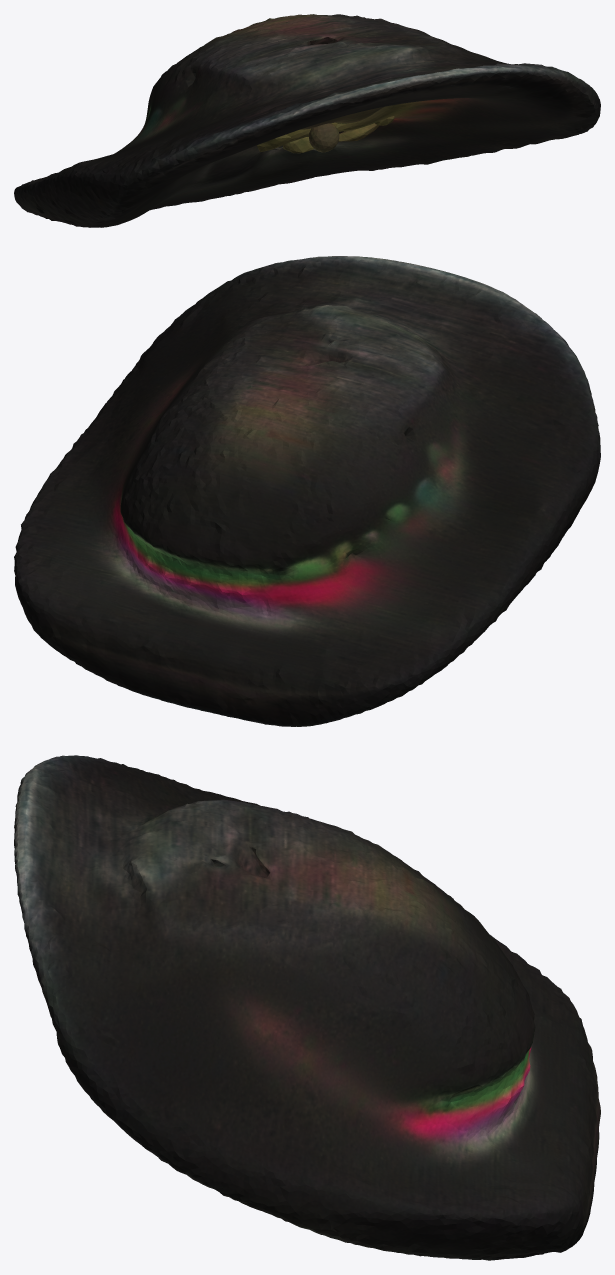
File: IMG_SEG_30.glb
3 renders of one model, top to bottom at view 1: azimuth 30°, elevation 25°; view 2: azimuth 150°, elevation 25°; view 3: azimuth 270°, elevation 25°, orthographic. The views are drawn at different scales.
Size of the model in its own units: 1.13 by 0.6224 by 0.9149.
1 material, 1 textured.
